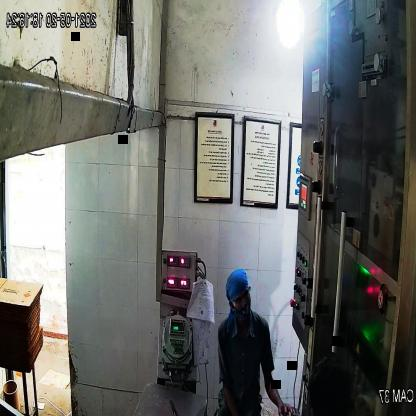goggles: (230, 284, 254, 311)
